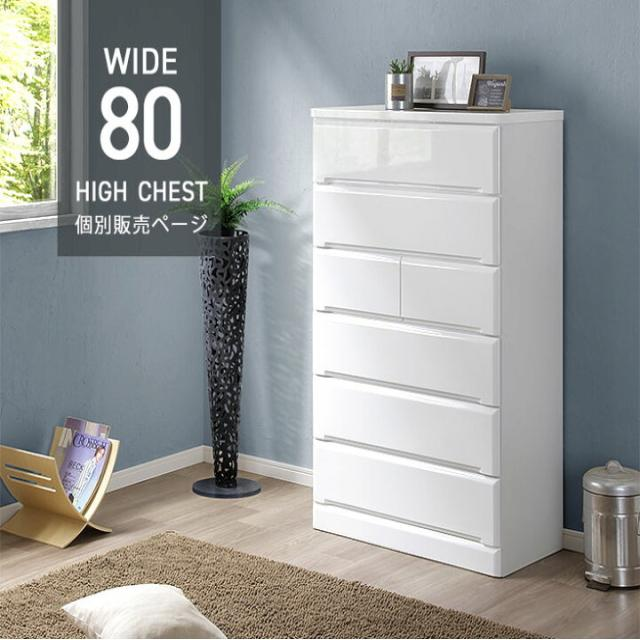white shelf: (298, 103, 570, 582)
